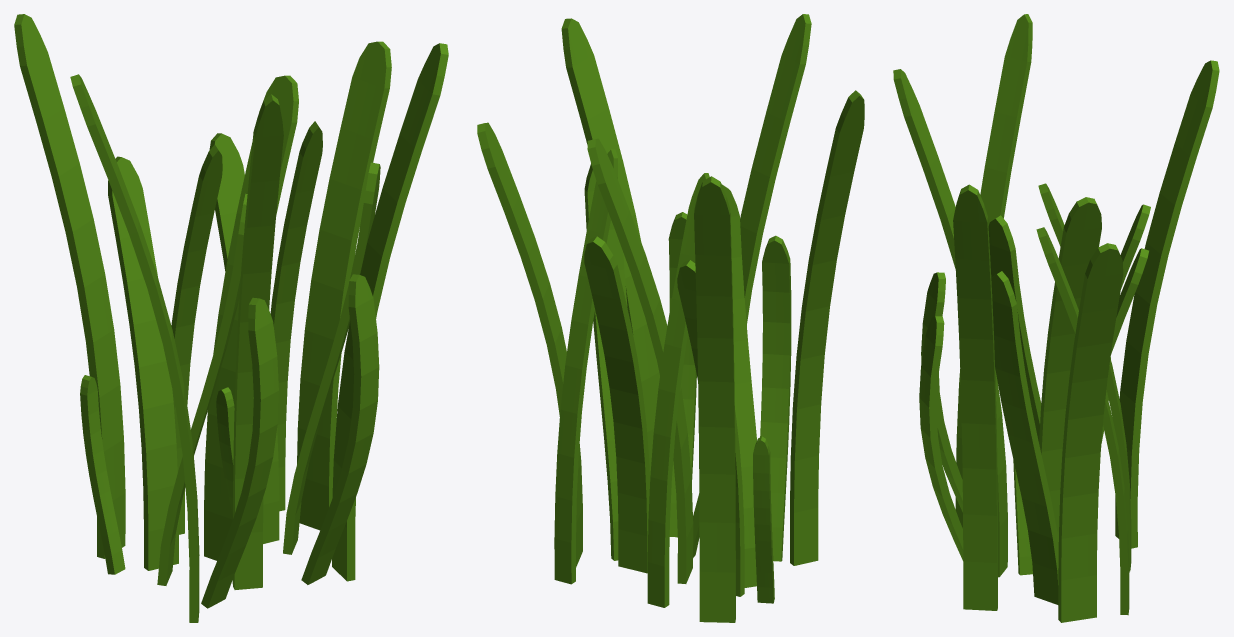
File: grass.fbx
3 views of the same model, side by side, from view 1: azimuth 30°, elevation 25°; view 2: azimuth 150°, elevation 25°; view 3: azimuth 270°, elevation 25° (orthographic). The views are drawn at different scales.
Parts seen in each view (by area): view 1: grass; view 2: grass; view 3: grass.
Part boxes in pixels (left/top/right/bottom): grass: left=14, top=14, right=448, bottom=622; grass: left=477, top=14, right=864, bottom=622; grass: left=893, top=14, right=1219, bottom=622.
Bounding box in the file's own units: 31.45 × 45.02 × 27.23.
